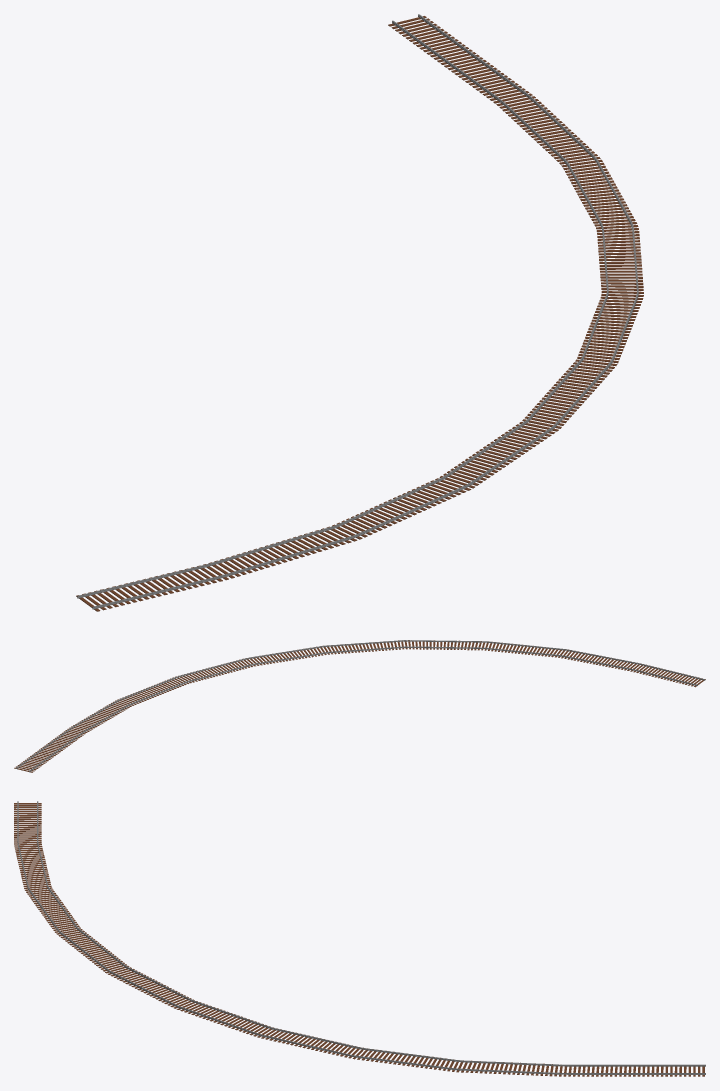
File: CurveTrack.fbx
The picture shows the model from 3 angles, top to bottom: view 1: azimuth 30°, elevation 25°; view 2: azimuth 150°, elevation 25°; view 3: azimuth 270°, elevation 25°; orthographic projection. The views are drawn at different scales.
Visible parts, largest first — view 1: Track; view 2: Track; view 3: Track.
Boxes of the visible parts, <box> form: Track: <box>76,14,643,611</box>; Track: <box>14,640,705,772</box>; Track: <box>14,801,705,1076</box>.
Size of the model in its own units: 24180 by 73.6 by 25844.
